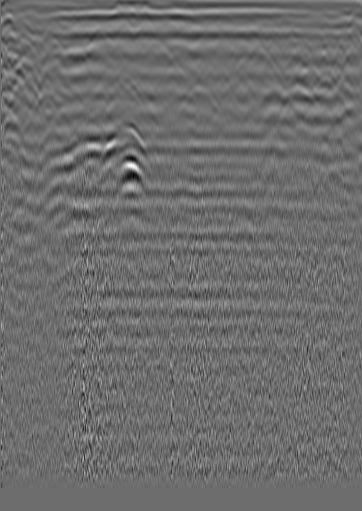가스: (112, 155, 153, 194)
상수: (11, 29, 31, 49)
오수: (315, 32, 335, 52)
우수: (151, 31, 171, 51)
